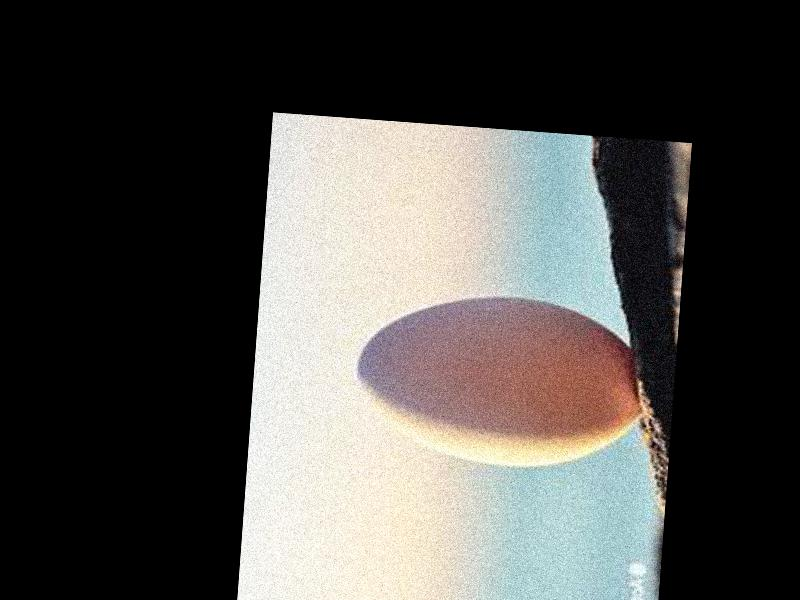Eggs: (348, 285, 645, 476)
